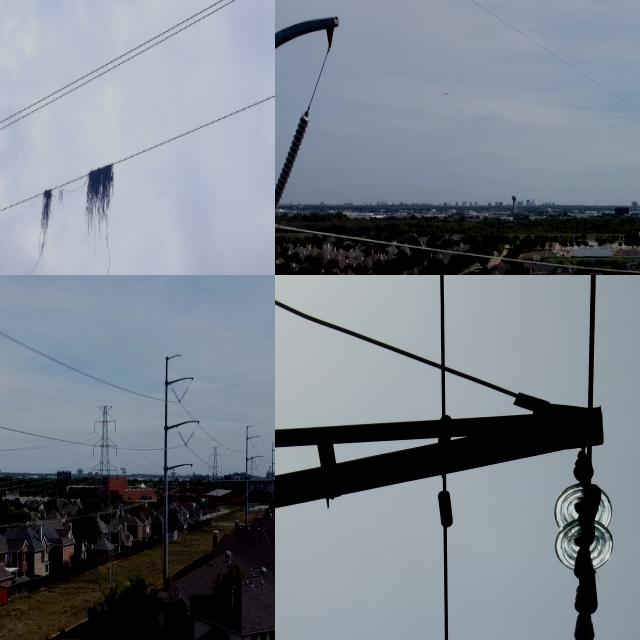杆塔: (86, 396, 123, 590)
植被遮挡: (85, 159, 116, 275), (33, 187, 53, 273)
正常绝缘子: (555, 477, 614, 640), (275, 95, 319, 221), (175, 381, 192, 407), (183, 425, 198, 450), (174, 427, 189, 448), (170, 384, 182, 406)
绝缘子破损: (573, 558, 596, 591), (574, 597, 598, 627), (573, 627, 595, 640)
